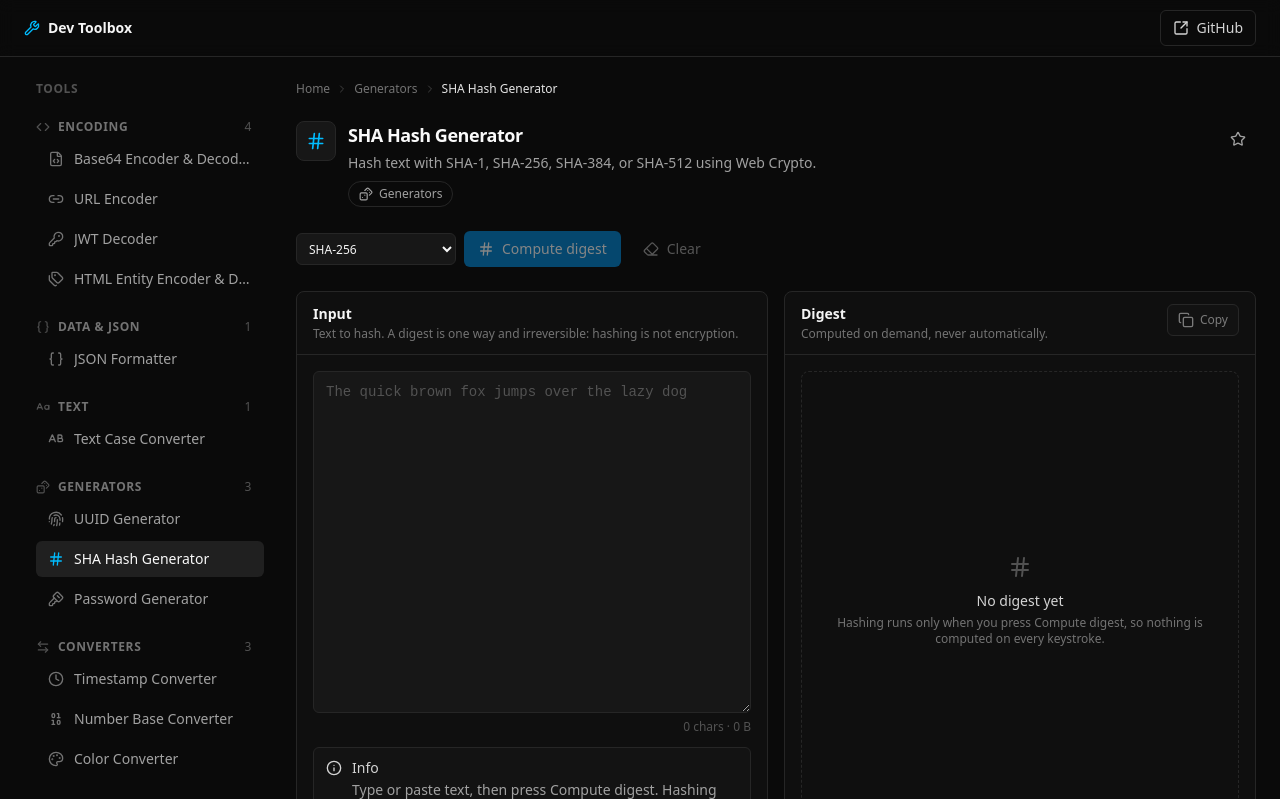
it: SHA Hash Generator › computes a SHA-256 digest on demand
This screenshot has width=1280, height=799.
Expected: the heading "SHA Hash Generator" is shown, [348,123,523,147]
Expected: the heading "No digest yet" is shown, [976,591,1064,610]
Step 1. Type "abc" into the text box named "Text to hash" → coordinates (532, 542), box [313,371,751,713]
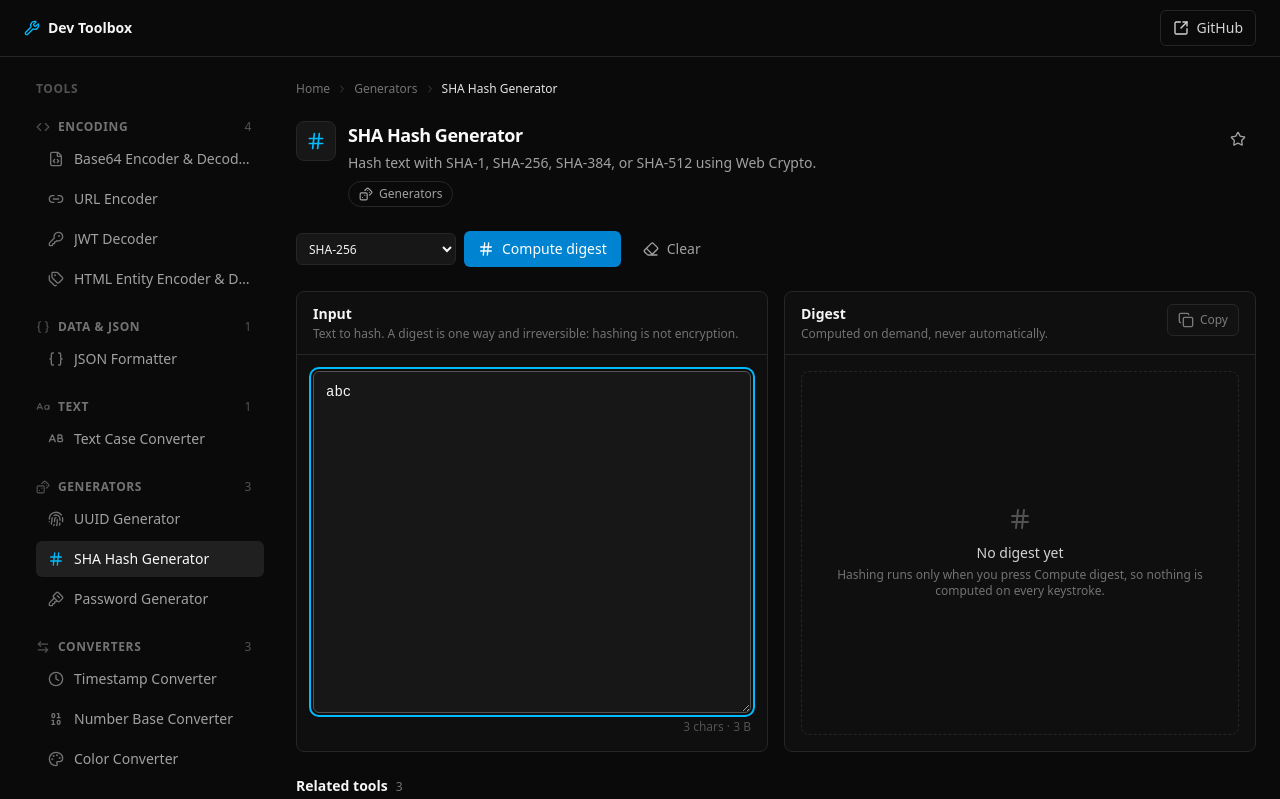
Step 2. Click the button "Compute digest" → coordinates (542, 249), box [464,231,621,267]
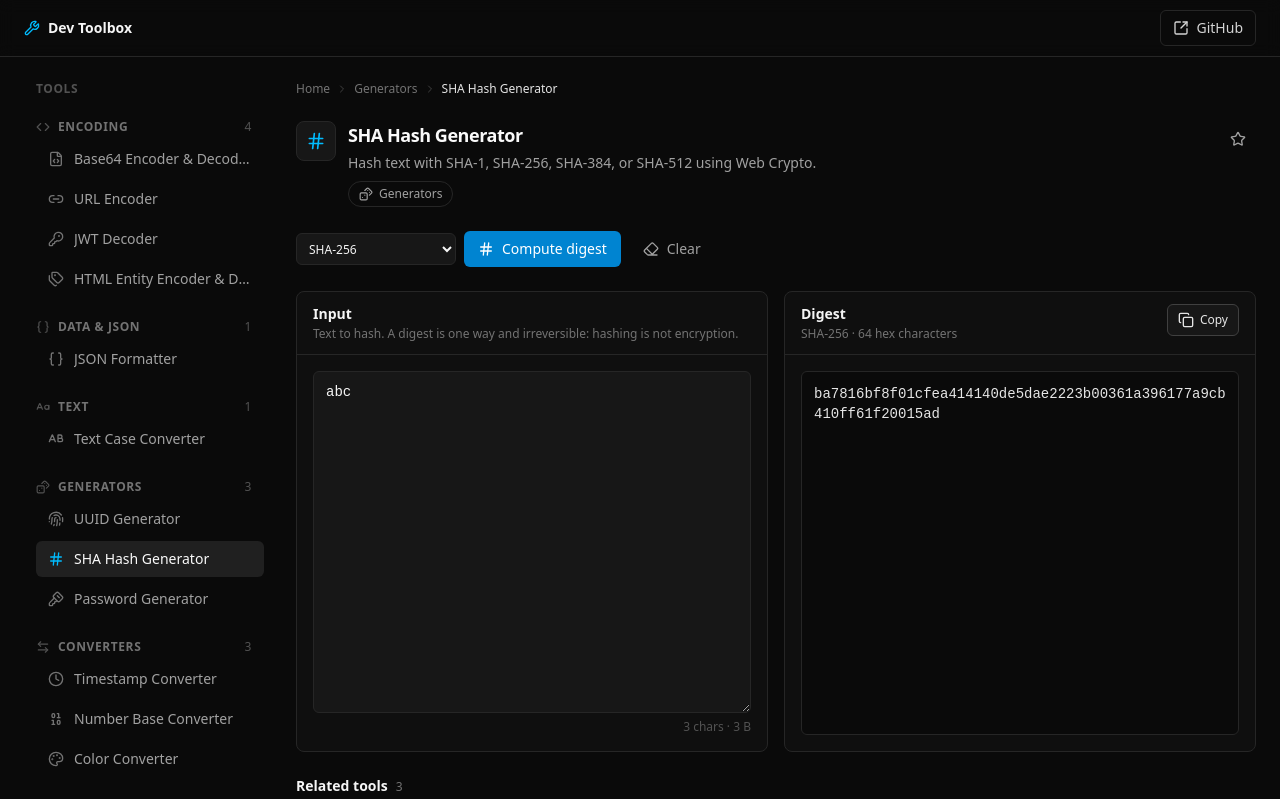
Expected: the text named "SHA-256 digest" reads "ba7816bf8f01cfea414140de5dae2223b00361a396177a9cb410ff61f20015ad", [814,386,1226,422]
Expected: the text "SHA-256 · 64 hex characters" is shown, [801,326,957,342]
